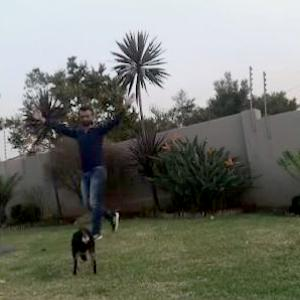takeoff: (28, 76, 127, 252)
